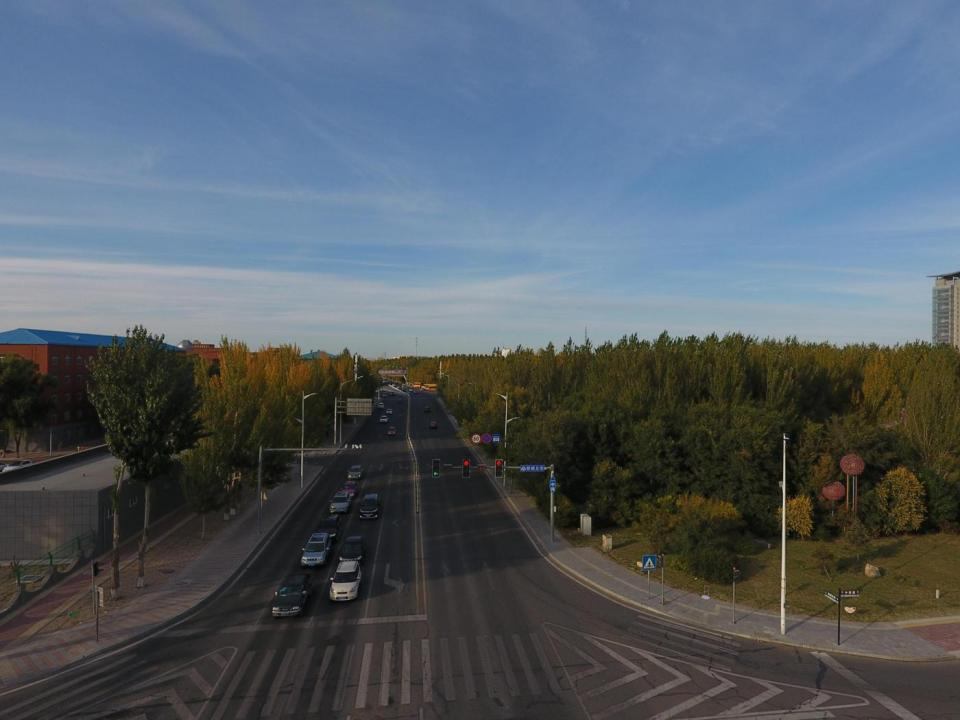car: (271, 572, 314, 618), (329, 560, 362, 602), (301, 533, 333, 567), (338, 535, 367, 562), (315, 512, 343, 538), (358, 493, 380, 520), (2, 460, 32, 478), (329, 491, 352, 514), (339, 481, 360, 496), (346, 464, 364, 480), (428, 421, 438, 429), (388, 427, 396, 436), (379, 415, 388, 423), (422, 405, 432, 412), (376, 402, 384, 409), (385, 408, 393, 413), (397, 398, 403, 404), (389, 391, 395, 396)
van: (382, 391, 387, 397)
